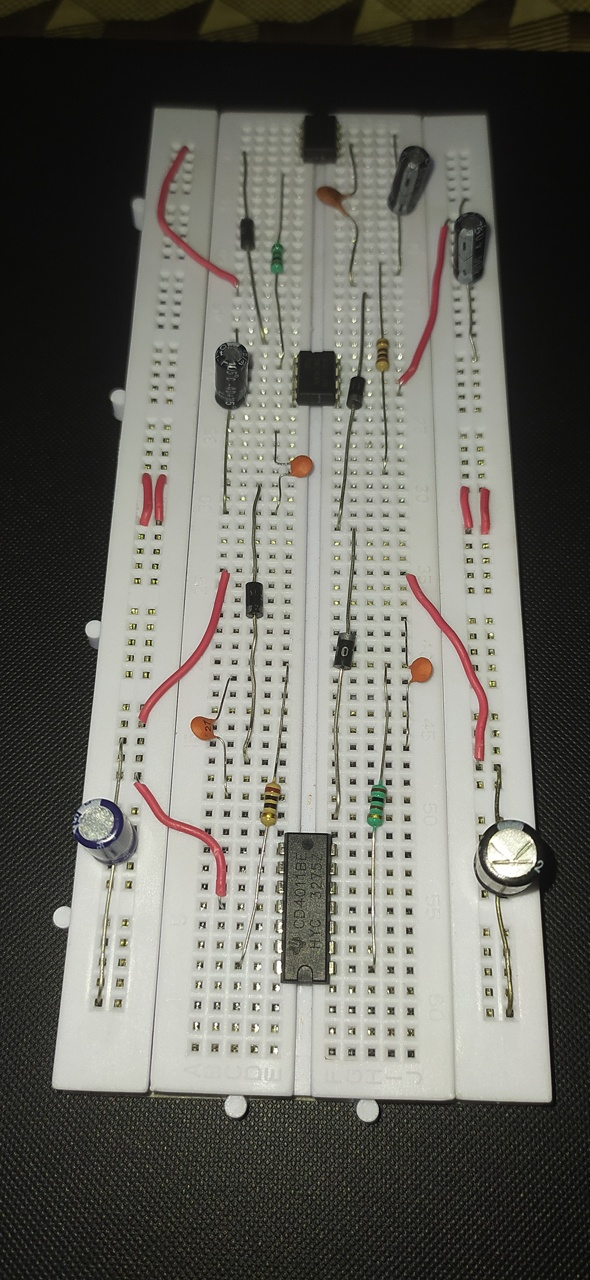capacitor: (473, 819, 548, 900), (72, 797, 140, 867), (386, 146, 432, 218), (215, 341, 251, 413), (453, 212, 487, 284), (315, 185, 348, 214), (190, 715, 219, 743), (408, 657, 434, 686), (287, 454, 313, 479)
resistor: (368, 781, 389, 831), (260, 780, 281, 828), (376, 338, 390, 374), (270, 244, 284, 277)
